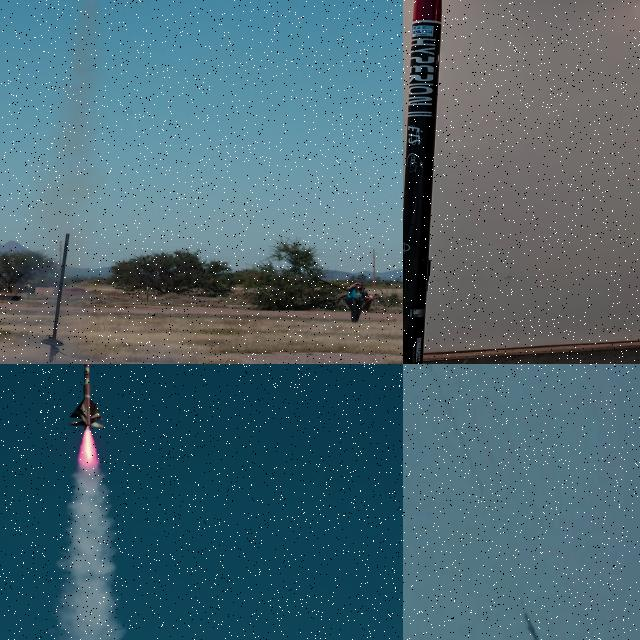Rocket: (403, 0, 442, 364), (68, 364, 105, 429), (524, 613, 552, 640)
